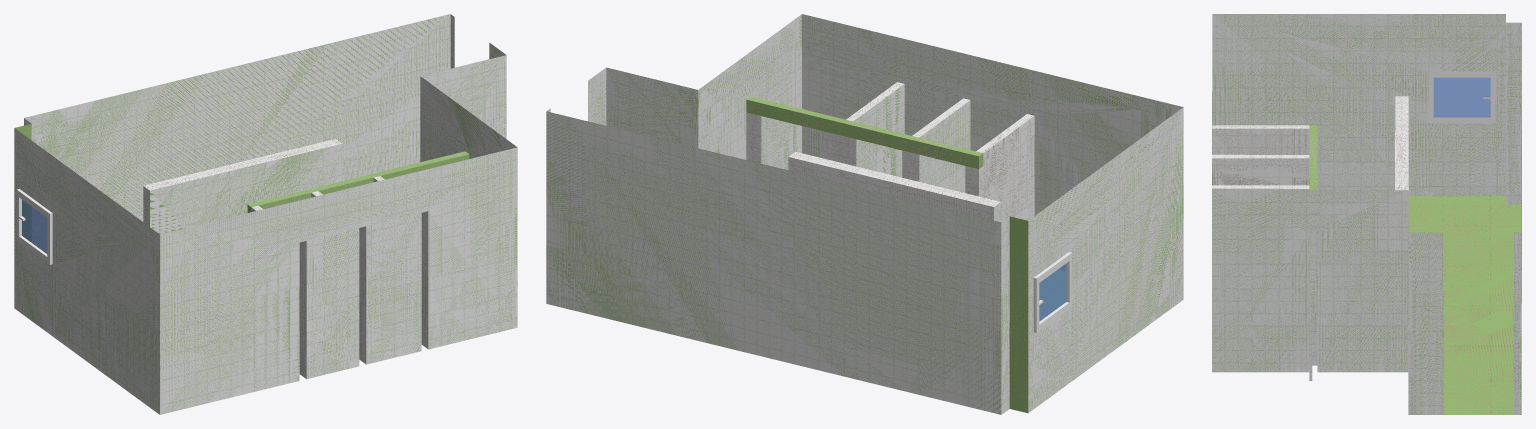
File: COM046.obj
3 views of the same model, side by side, from view 1: azimuth 30°, elevation 25°; view 2: azimuth 150°, elevation 25°; view 3: azimuth 270°, elevation 25° (orthographic). The views are drawn at different scales.
Visible parts, largest first — view 1: Mesh4 COM046 Model, Mesh1 ventana3_1 COM046 Model; view 2: Mesh4 COM046 Model, Mesh1 ventana3_1 COM046 Model; view 3: Mesh4 COM046 Model, Mesh1 ventana3_1 COM046 Model.
Part boxes in pixels (x1,y1,x2,y2): Mesh4 COM046 Model: (14,14,517,414); Mesh1 ventana3_1 COM046 Model: (16,189,52,264); Mesh4 COM046 Model: (546,14,1183,414); Mesh1 ventana3_1 COM046 Model: (1033,252,1072,332); Mesh4 COM046 Model: (1212,14,1521,414); Mesh1 ventana3_1 COM046 Model: (1428,71,1495,123).
Bounding box in the file's own units: 7.77 × 3.25 × 4.62.
8 materials, 3 textured.
